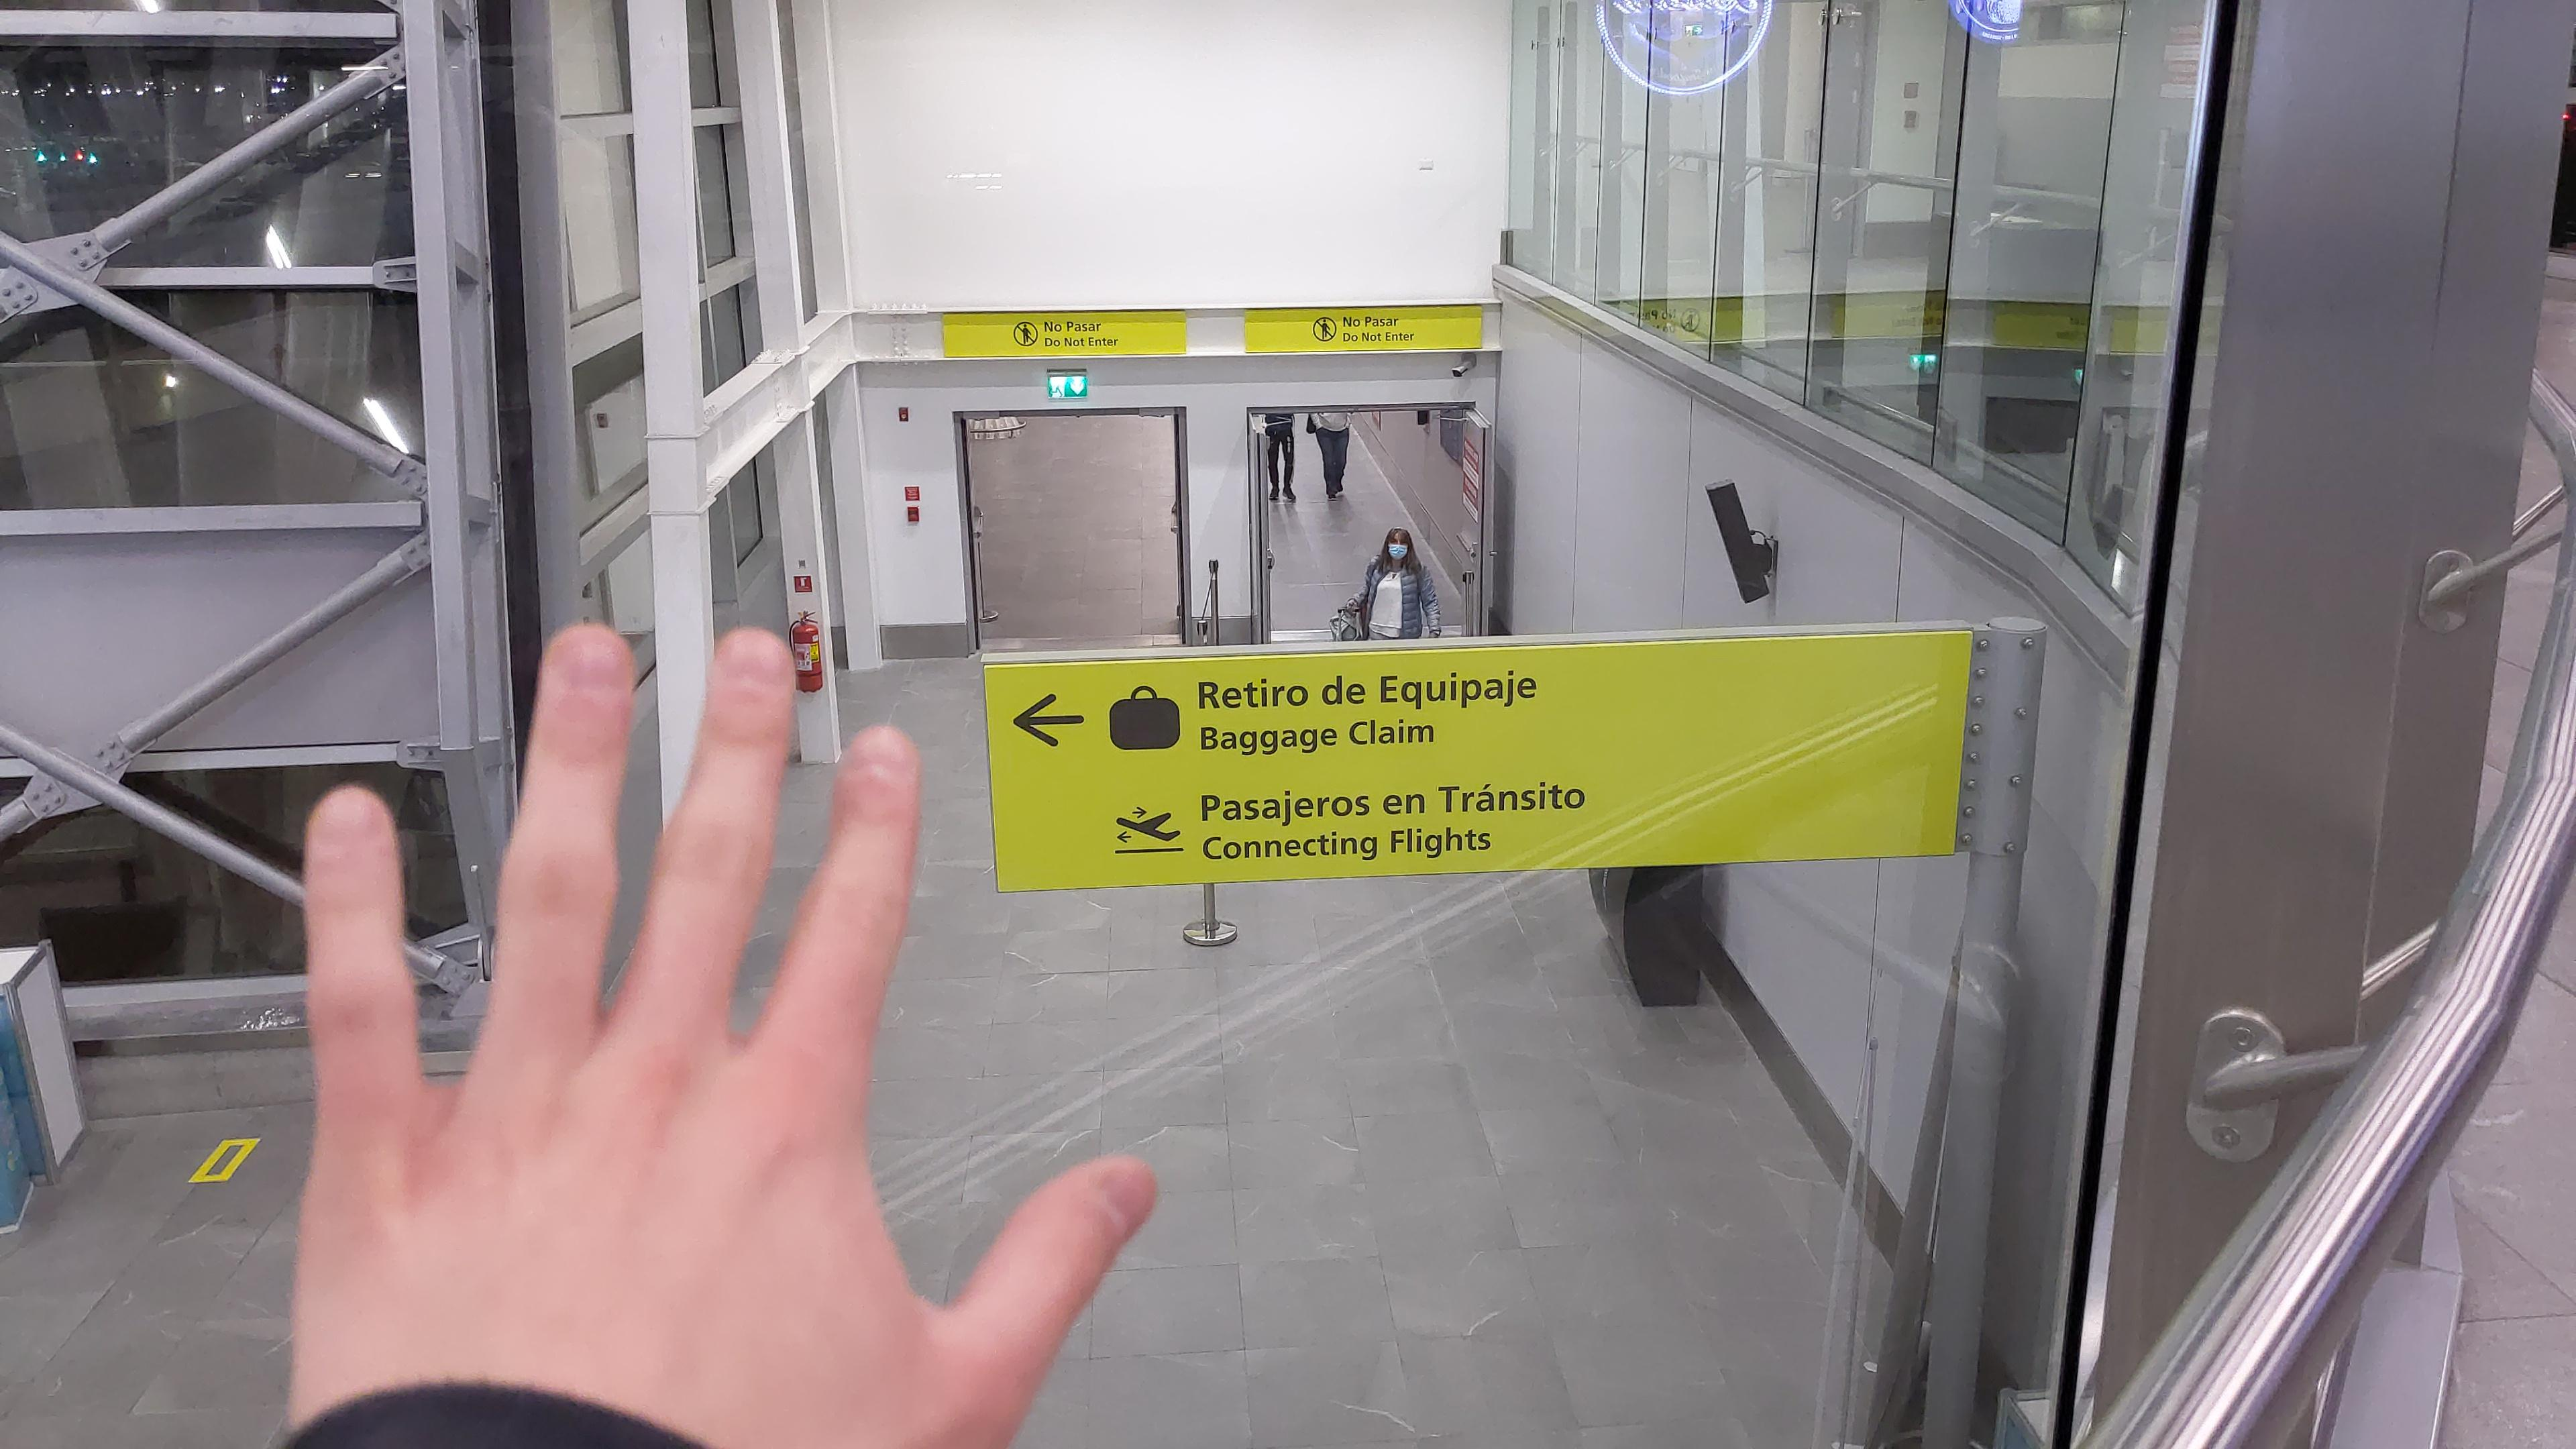airplane symbol: (1116, 805, 1182, 844)
baggage claim: (1106, 685, 1182, 752)
emergency down arrow: (1069, 375, 1085, 396)
emergency exit: (1049, 377, 1067, 400)
extinguisher symbol: (800, 577, 809, 587)
fire-extinguisher: (787, 610, 823, 692)
thin left arrow: (1010, 692, 1088, 748)
